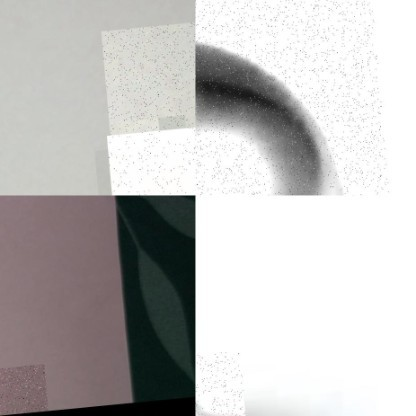ironball: (195, 0, 390, 195)
